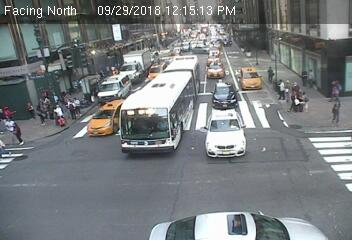car: (123, 56, 198, 156), (152, 211, 327, 240), (205, 108, 245, 155), (88, 100, 122, 134), (97, 74, 131, 100), (210, 80, 240, 108), (237, 66, 263, 89), (207, 62, 226, 79), (146, 62, 163, 81), (208, 45, 221, 55)
